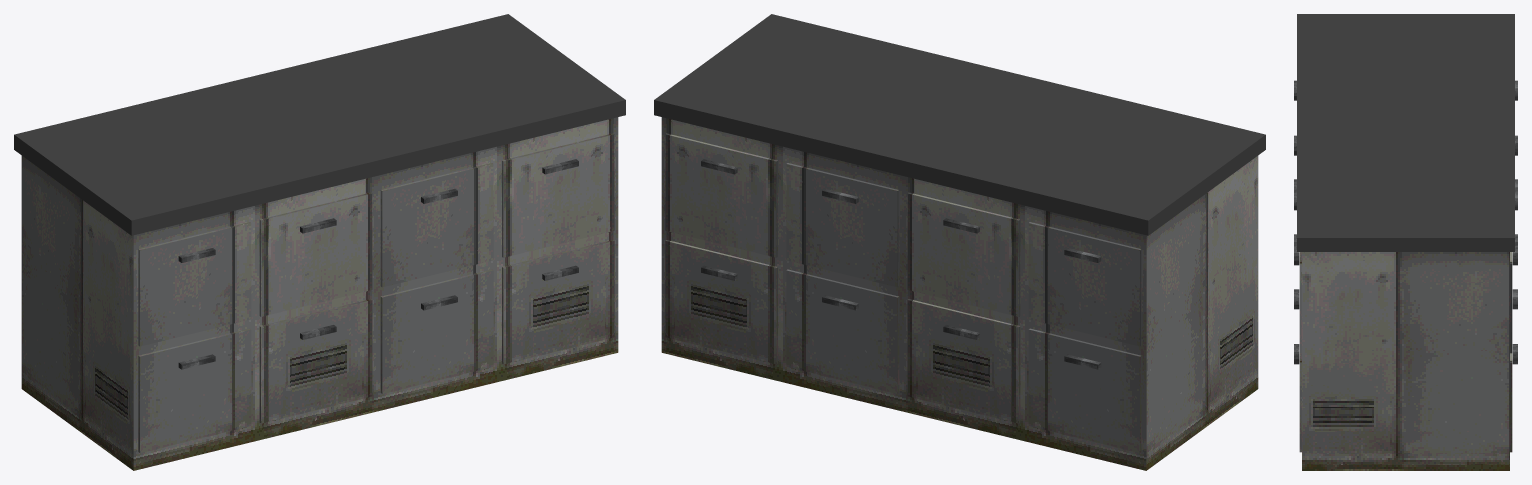
File: low_cabinets.glb
3 views of the same model, side by side, from view 1: azimuth 30°, elevation 25°; view 2: azimuth 150°, elevation 25°; view 3: azimuth 270°, elevation 25° (orthographic). The views are drawn at different scales.
Visible parts, largest first — view 1: low_cabinets; view 2: low_cabinets; view 3: low_cabinets.
Boxes of the visible parts, left/top/right/bottom form: low_cabinets: left=14, top=14, right=625, bottom=470; low_cabinets: left=654, top=14, right=1265, bottom=470; low_cabinets: left=1294, top=14, right=1517, bottom=470.
Size of the model in its own units: 2.04 by 1 by 0.8624.
4 materials, 3 textured.
